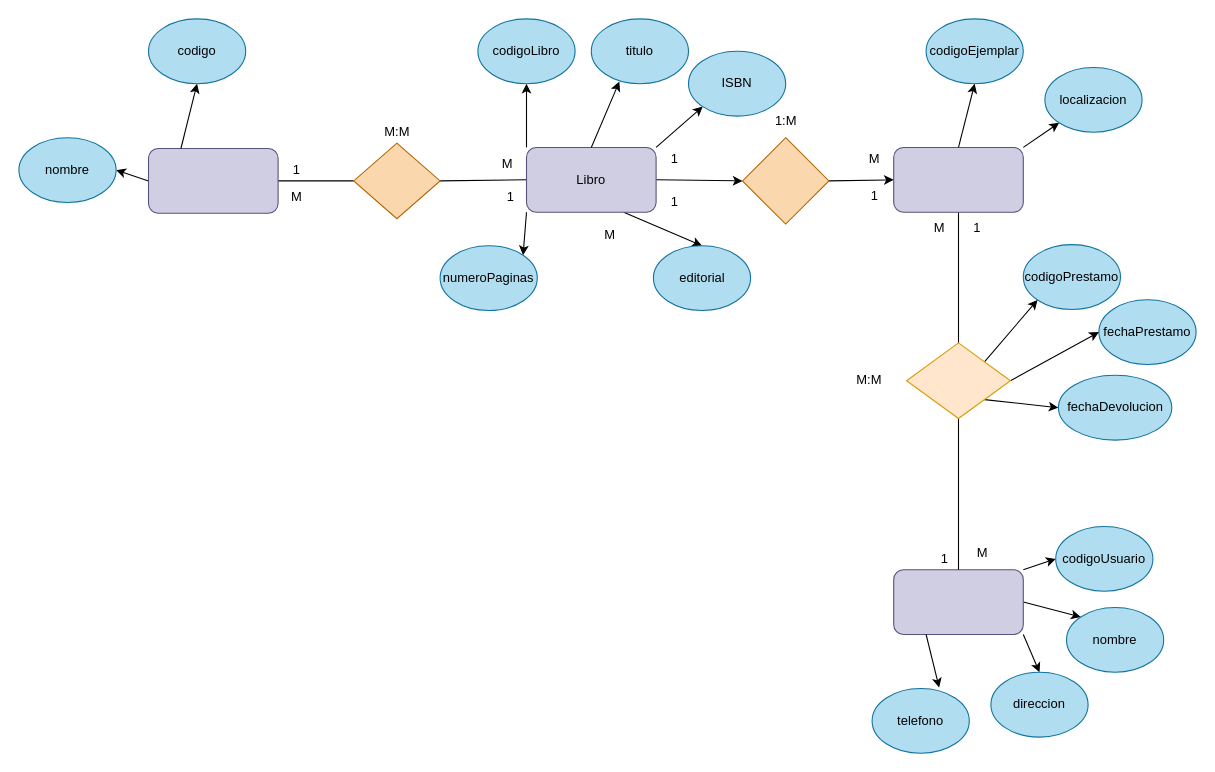
This 1215x772 diagram has some shape labels left out. The shapes that lost their labels are listed below. From the top down, each one's centre as x and y in pixels, then its label:
the point at 212,180: Autor
the point at 396,180: escribe
the point at 785,180: tiene
the point at 958,179: Ejemplar
the point at 957,380: préstamo
the point at 958,601: Usuario
